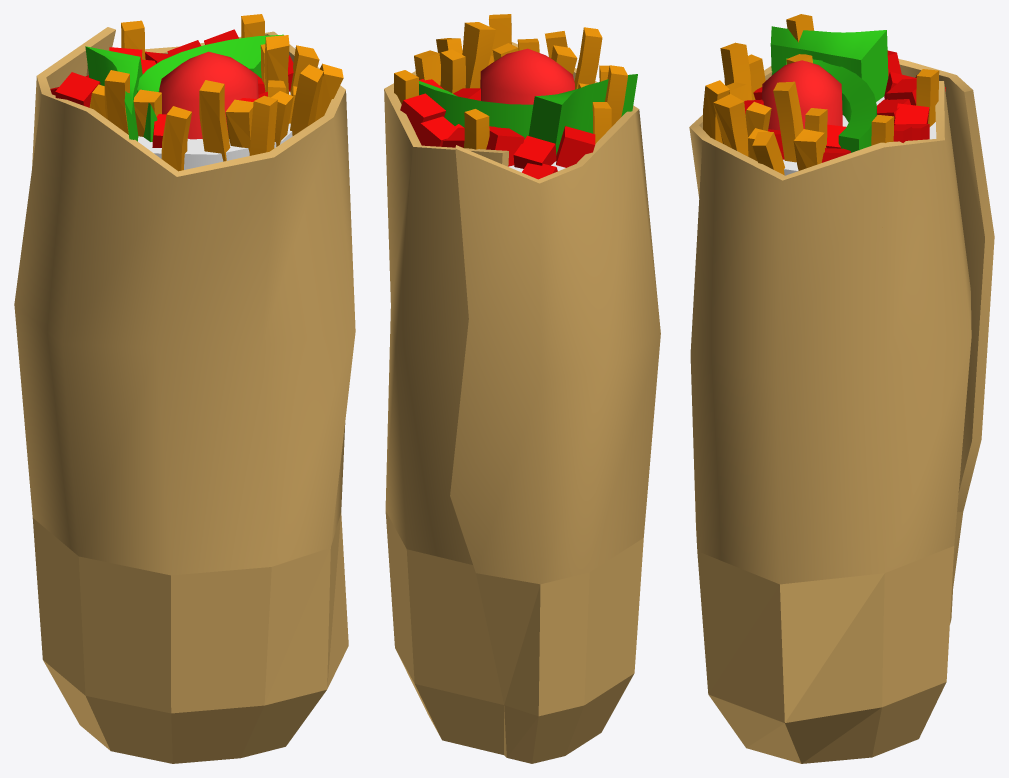
The model's file is Burrital.FBX.
3 views of the same model, side by side, from view 1: azimuth 30°, elevation 25°; view 2: azimuth 150°, elevation 25°; view 3: azimuth 270°, elevation 25° (orthographic). The views are drawn at different scales.
Visible parts, largest first — view 1: Plane001; view 2: Plane001; view 3: Plane001.
Part boxes in pixels (x1=…): Plane001: x1=14, y1=14, x2=355, y2=763; Plane001: x1=384, y1=14, x2=660, y2=763; Plane001: x1=689, y1=14, x2=994, y2=763.
Bounding box in the file's own units: 18.93 × 46.5 × 18.85.
